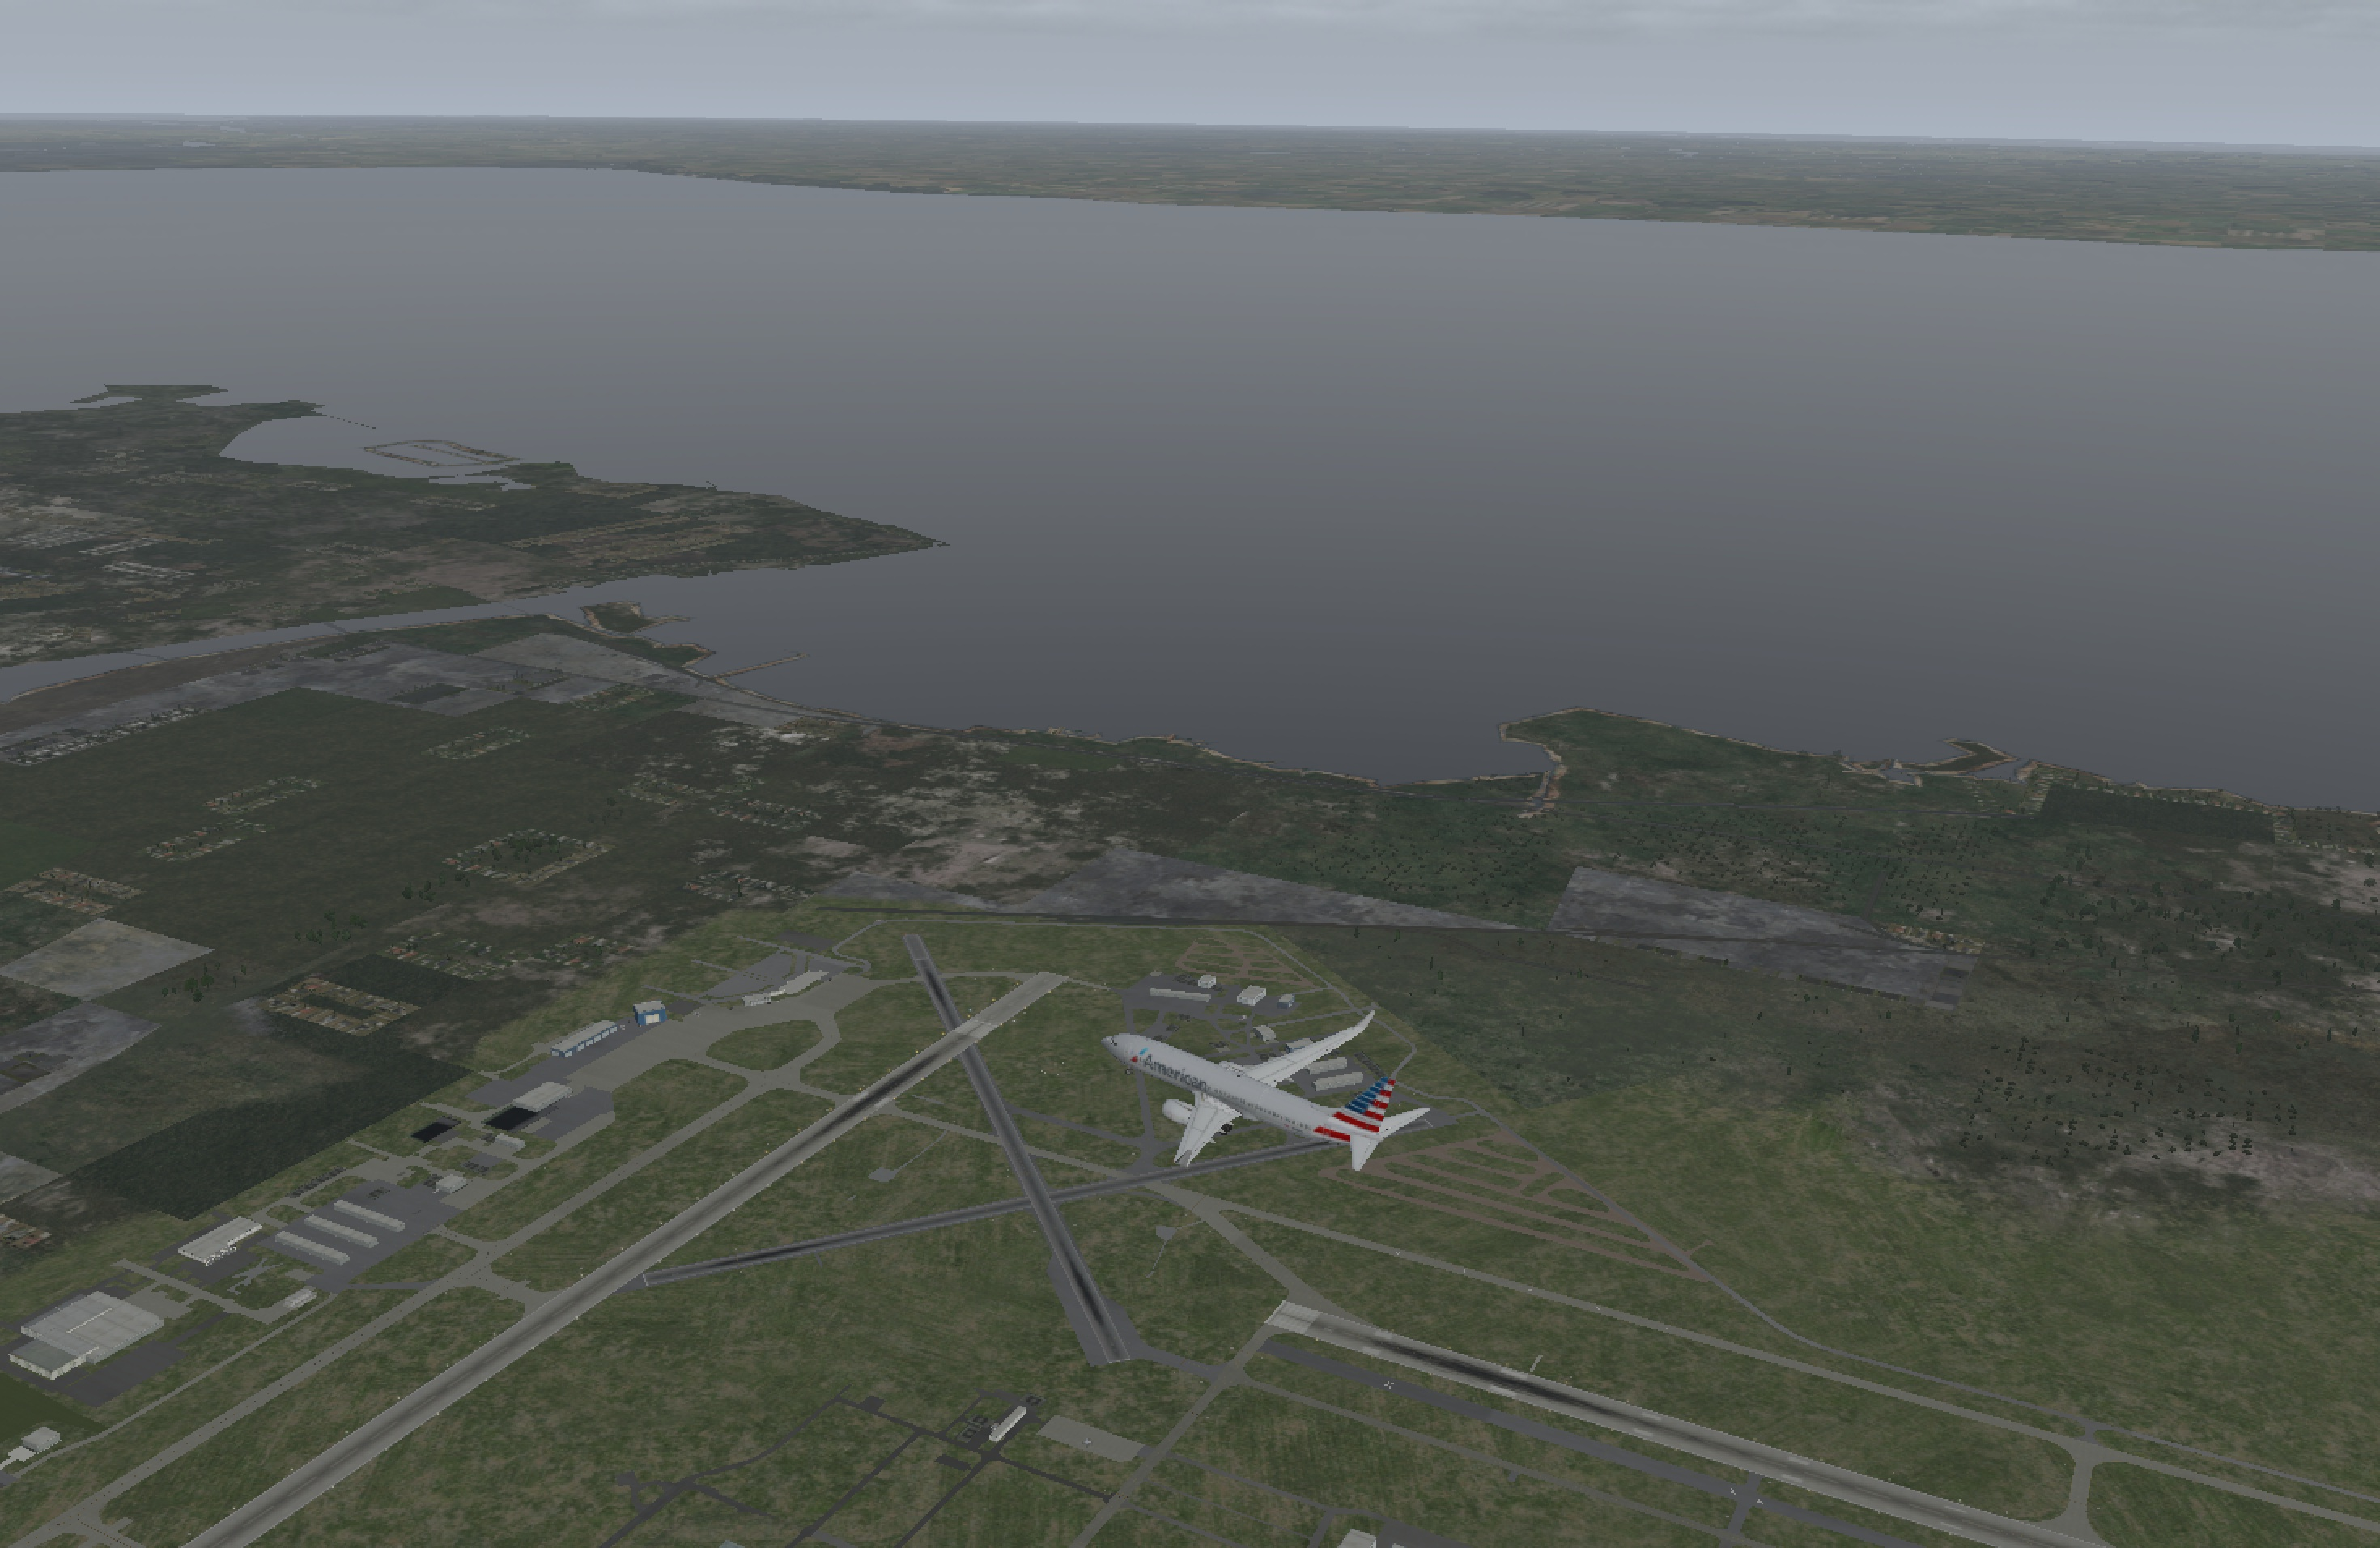aircraft: (1055, 1027, 1405, 1159)
